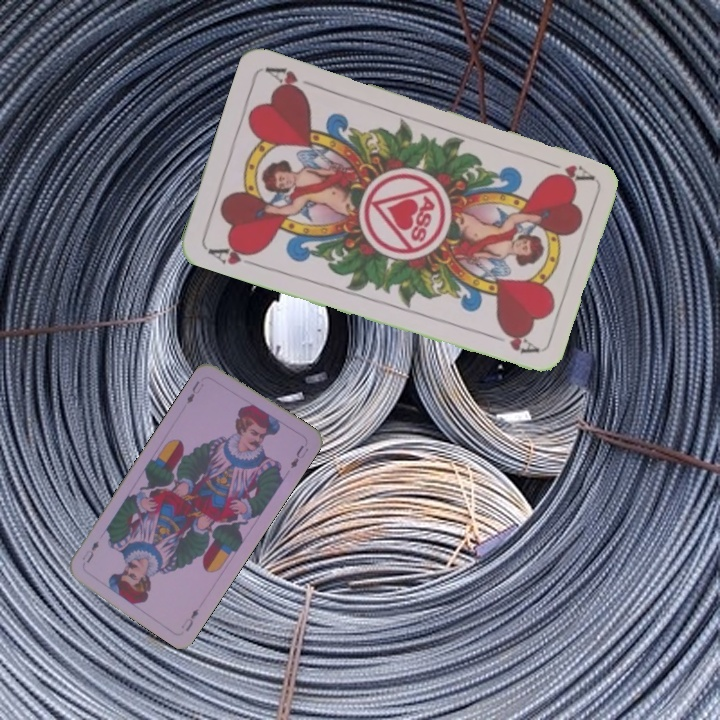EU: (182, 377, 207, 407), (177, 604, 201, 634)
HA: (203, 239, 263, 269), (537, 155, 595, 186)
